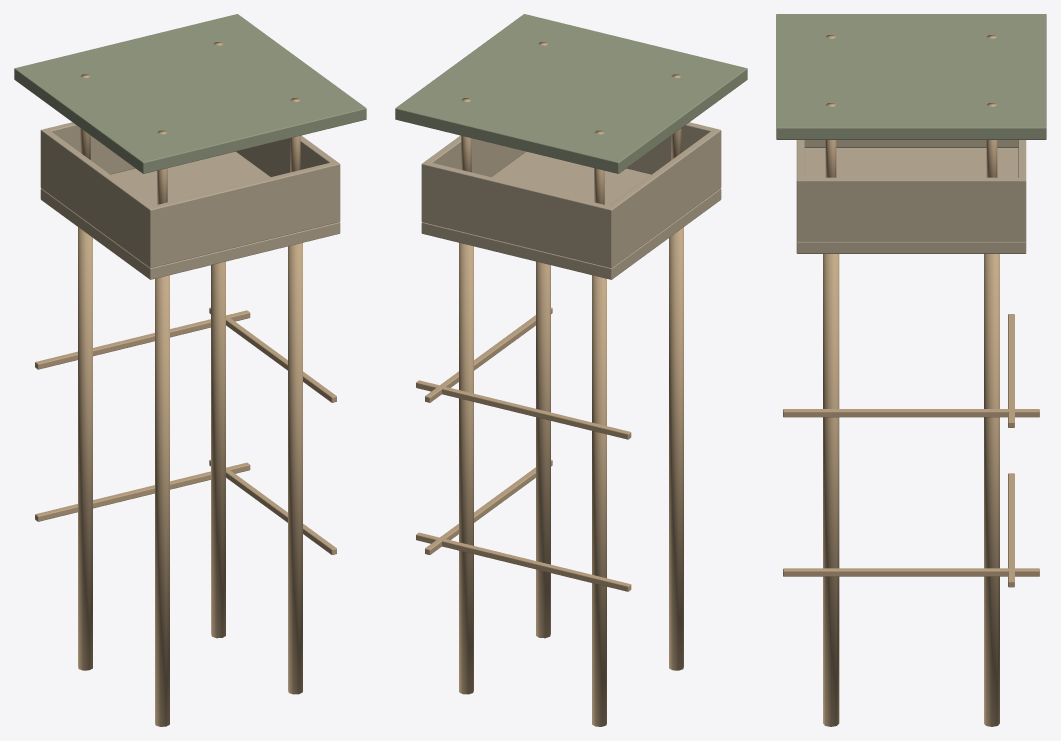
Rendered from watchtower.glb.
3 views of the same model, side by side, from view 1: azimuth 30°, elevation 25°; view 2: azimuth 150°, elevation 25°; view 3: azimuth 270°, elevation 25° (orthographic). The views are drawn at different scales.
Parts seen in each view (by area): view 1: wt_roof, wt_rail_b, wt_platform, wt_rail_l, wt_leg-0.7_-0.7, wt_leg0.7_-0.7, wt_leg-0.7_0.7, wt_leg0.7_0.7, wt_rail_r, wt_rail_f, wt_braceA13, wt_braceA26 (+2 smaller); view 2: wt_roof, wt_rail_f, wt_platform, wt_rail_l, wt_leg-0.7_-0.7, wt_leg0.7_0.7, wt_leg-0.7_0.7, wt_leg0.7_-0.7, wt_rail_r, wt_braceA26, wt_braceA13, wt_rail_b (+2 smaller); view 3: wt_roof, wt_rail_r, wt_platform, wt_leg0.7_-0.7, wt_leg0.7_0.7, wt_braceB13, wt_braceB26, wt_rail_l, wt_rail_f, wt_rail_b, wt_braceA13, wt_braceA26 (+2 smaller).
Boxes of the visible parts, x1,y1,x2,y2 form: wt_roof: (14, 14, 366, 173); wt_rail_b: (146, 161, 339, 267); wt_platform: (40, 151, 340, 279); wt_rail_l: (43, 129, 156, 267); wt_leg-0.7_-0.7: (155, 275, 169, 726); wt_leg0.7_-0.7: (288, 243, 302, 694); wt_leg-0.7_0.7: (78, 227, 92, 670); wt_leg0.7_0.7: (211, 261, 225, 638); wt_rail_r: (236, 135, 340, 223); wt_rail_f: (40, 122, 135, 189); wt_braceA13: (35, 462, 250, 521); wt_braceA26: (35, 310, 250, 369); wt_roof: (395, 14, 747, 173); wt_rail_f: (421, 161, 615, 267); wt_platform: (421, 151, 721, 279); wt_rail_l: (605, 128, 721, 268); wt_leg-0.7_-0.7: (669, 227, 683, 670); wt_leg0.7_0.7: (459, 243, 473, 694); wt_leg-0.7_0.7: (592, 275, 606, 726); wt_leg0.7_-0.7: (536, 261, 550, 638); wt_rail_r: (422, 135, 525, 223); wt_braceA26: (416, 380, 631, 439); wt_braceA13: (416, 532, 631, 591); wt_rail_b: (626, 122, 720, 189); wt_roof: (776, 14, 1046, 139); wt_rail_r: (796, 177, 1026, 241); wt_platform: (796, 148, 1026, 253); wt_leg0.7_-0.7: (823, 254, 839, 726); wt_leg0.7_0.7: (984, 254, 999, 726); wt_braceB13: (783, 568, 1039, 576); wt_braceB26: (783, 409, 1039, 417); wt_rail_l: (804, 140, 1018, 147); wt_rail_f: (1018, 140, 1026, 241); wt_rail_b: (796, 140, 804, 241); wt_braceA13: (1008, 473, 1014, 587); wt_braceA26: (1008, 314, 1014, 427).
Size of the model in its own units: 2 by 5.05 by 2.
